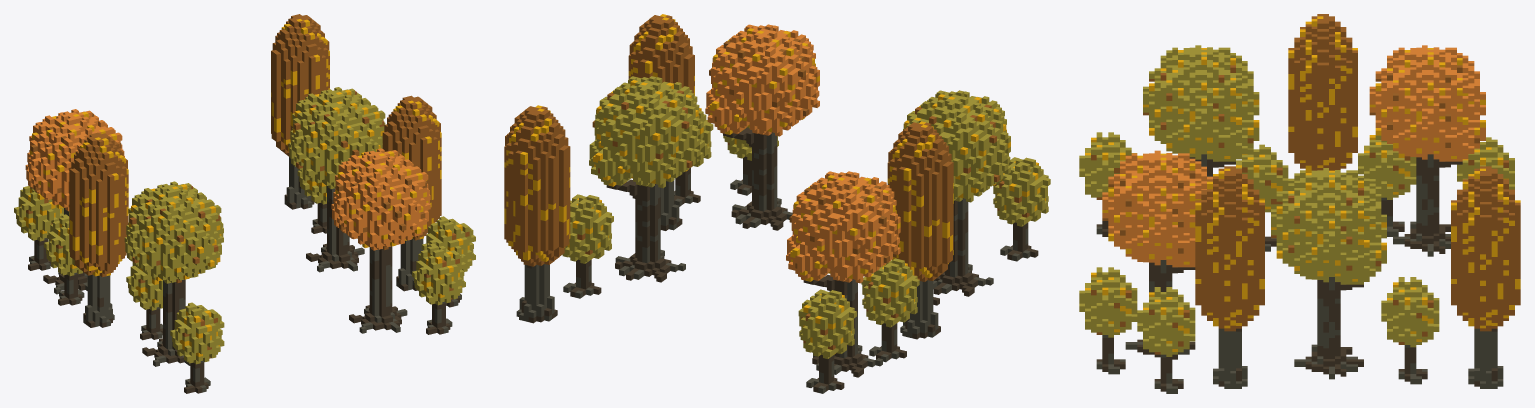
The model's file is trees_8_overtile.obj.
3 renders of one model, left to right at view 1: azimuth 30°, elevation 25°; view 2: azimuth 150°, elevation 25°; view 3: azimuth 270°, elevation 25°, orthographic. The views are drawn at different scales.
Size of the model in its own units: 7.5 by 4 by 7.6.
Materials: 1 (1 with a texture image).
